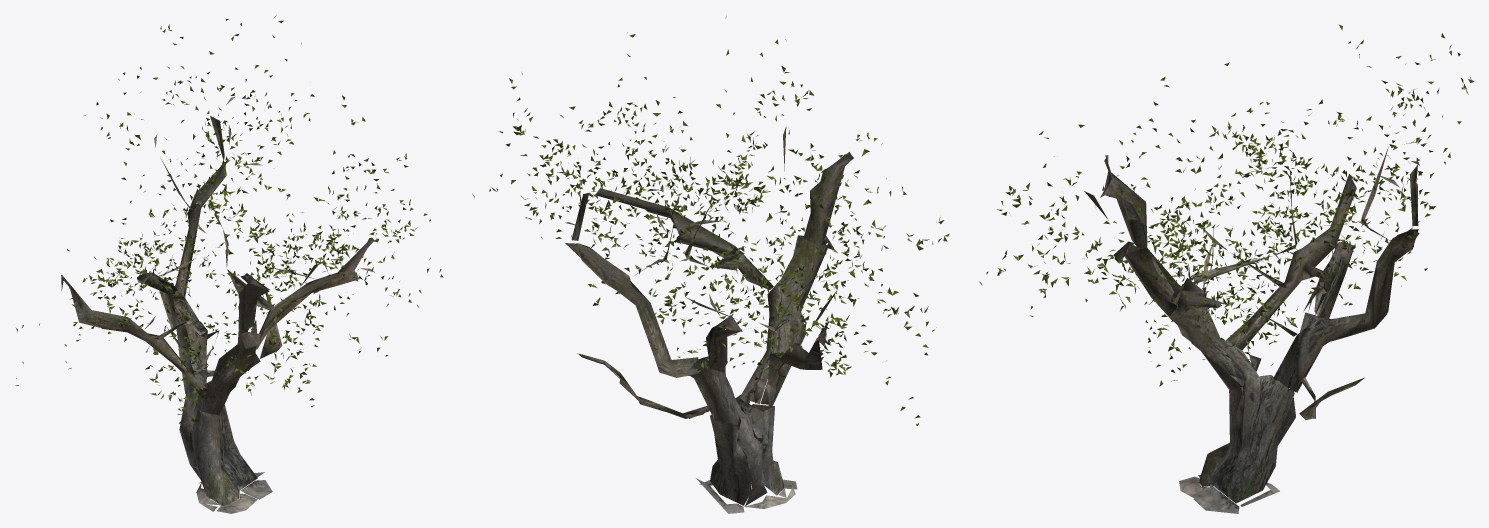
File: tree-distant.glb
The picture shows the model from 3 angles, left to right: view 1: azimuth 30°, elevation 25°; view 2: azimuth 150°, elevation 25°; view 3: azimuth 270°, elevation 25°; orthographic projection. The views are drawn at different scales.
Visible parts, largest first — view 1: island_tree_01_LOD0; view 2: island_tree_01_LOD0; view 3: island_tree_01_LOD0.
Part boxes in pixels (x1,y1,x2,y2): island_tree_01_LOD0: [15, 15, 443, 513]; island_tree_01_LOD0: [472, 16, 949, 513]; island_tree_01_LOD0: [979, 24, 1474, 513].
Size of the model in its own units: 4.64 by 4.99 by 4.42.
Materials: 3 (3 with a texture image).
